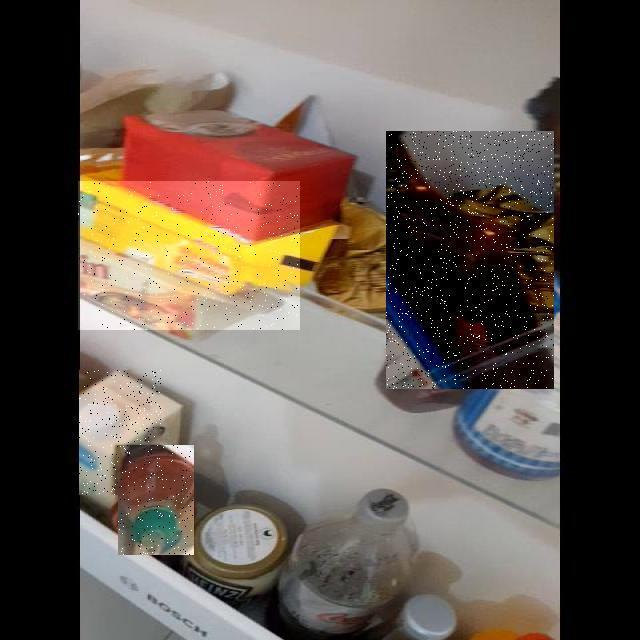milk: (0, 248, 161, 640)
